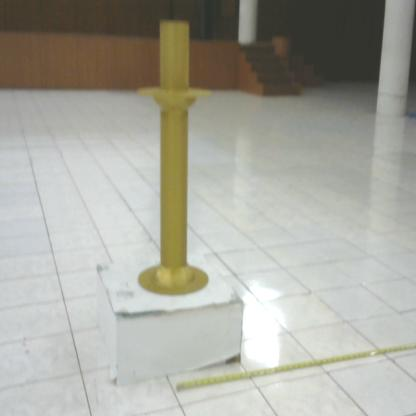pole: (134, 14, 214, 301)
